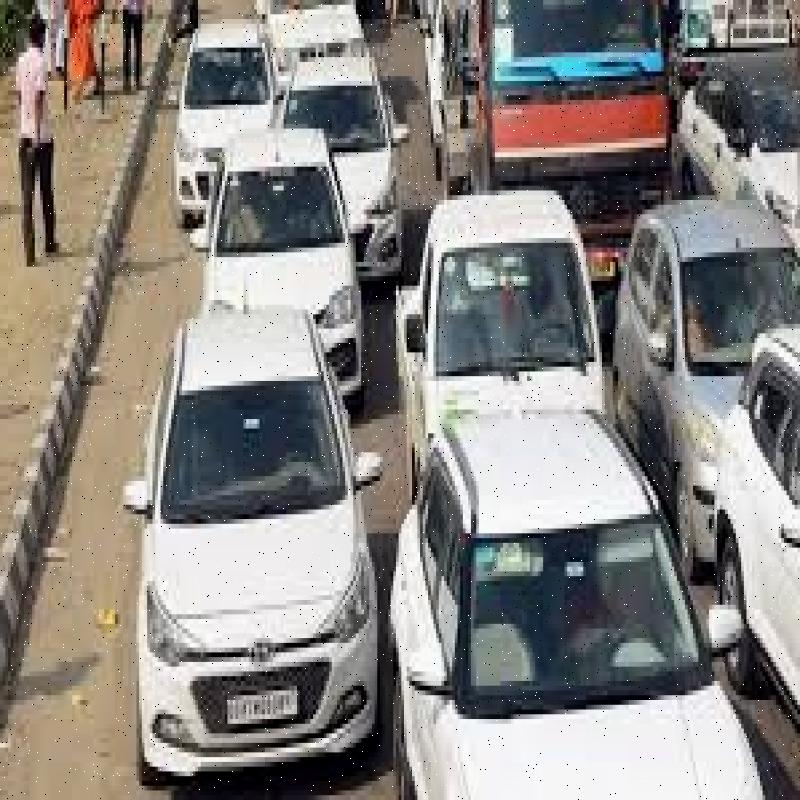car: (393, 388, 745, 800), (130, 298, 384, 800), (403, 168, 606, 434), (215, 118, 362, 384), (161, 14, 272, 237), (307, 32, 395, 252)
